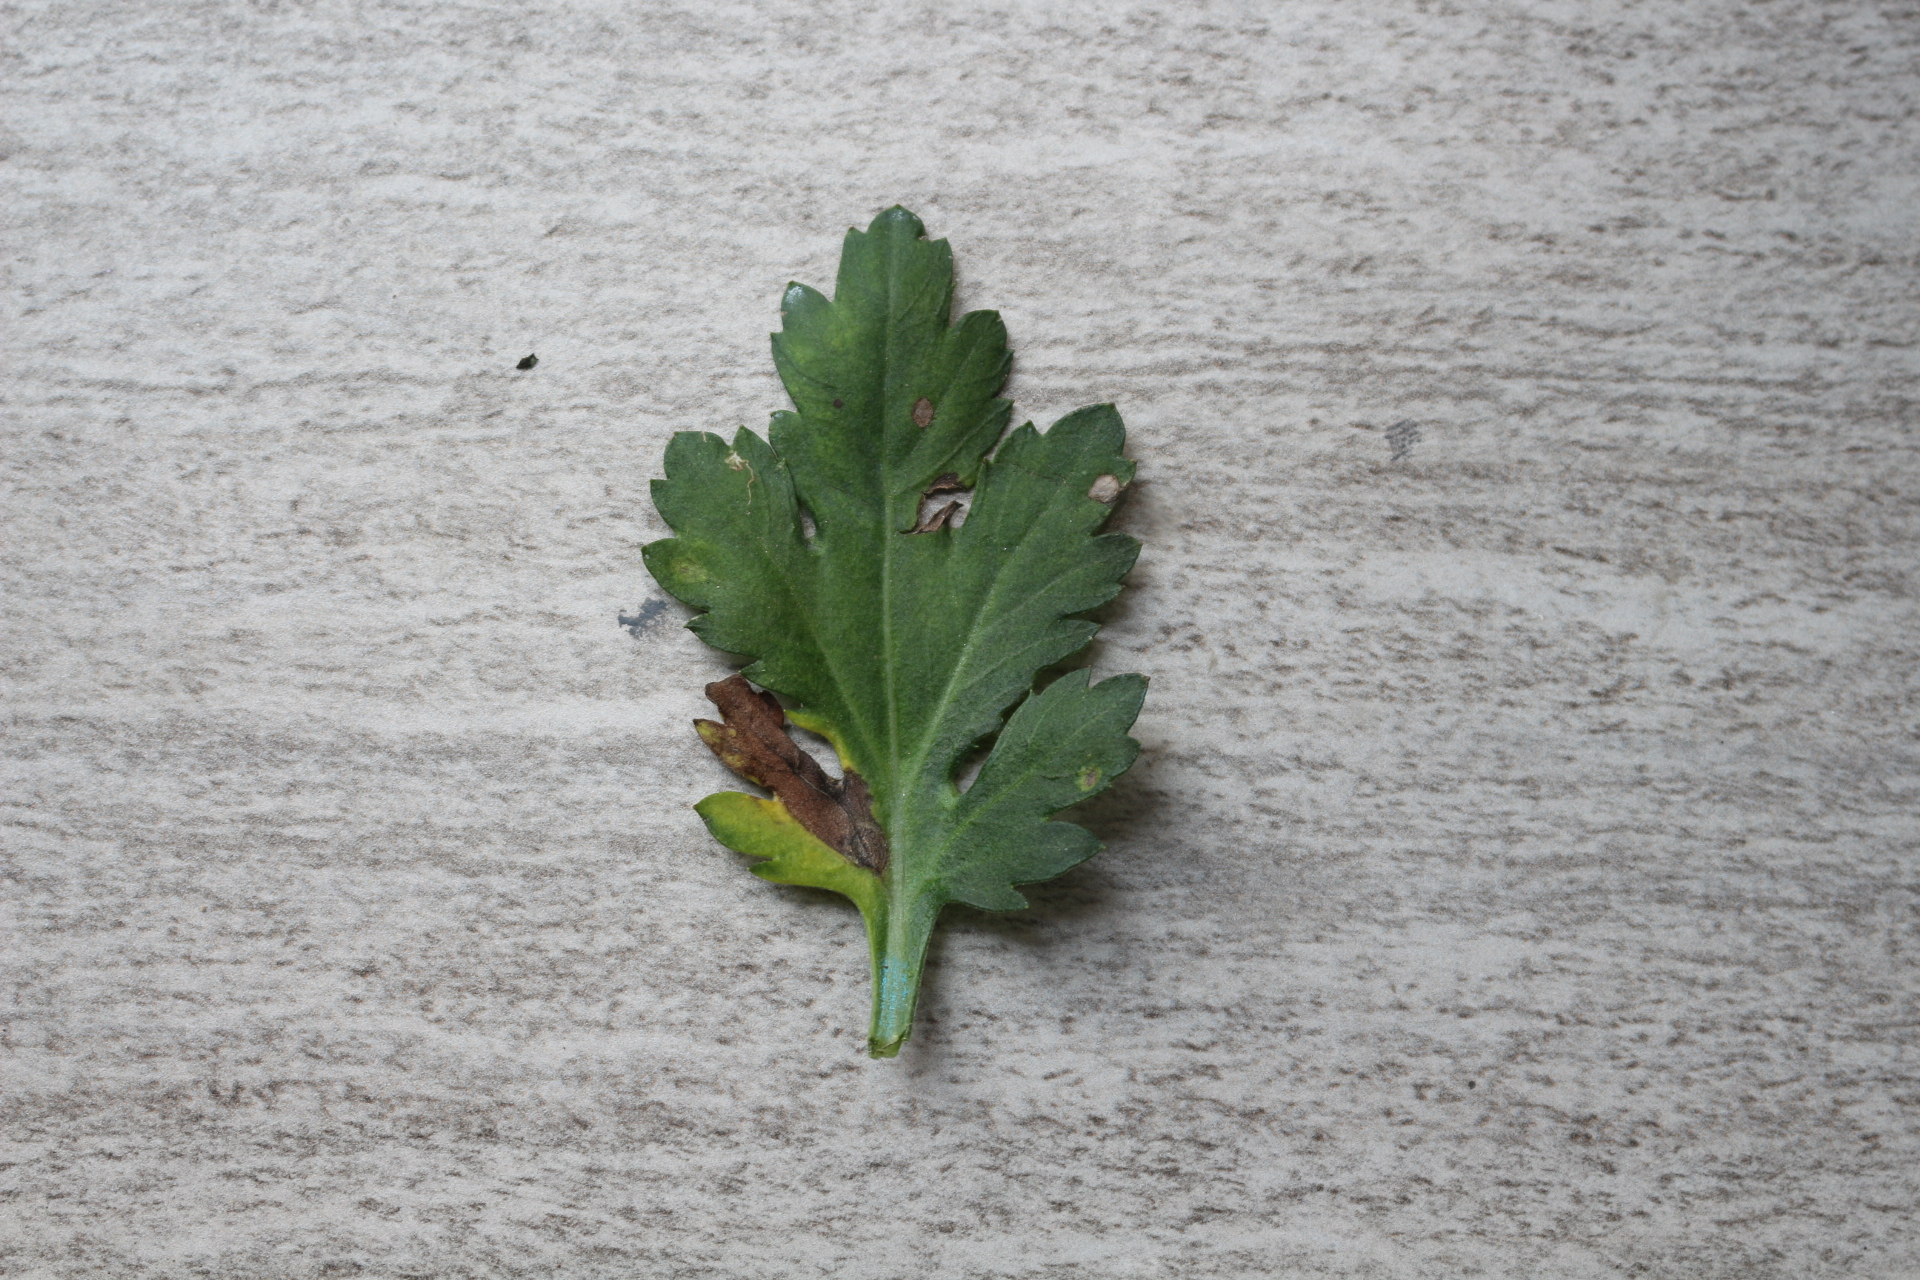namden: (1089, 474, 1124, 506), (909, 391, 934, 431)
